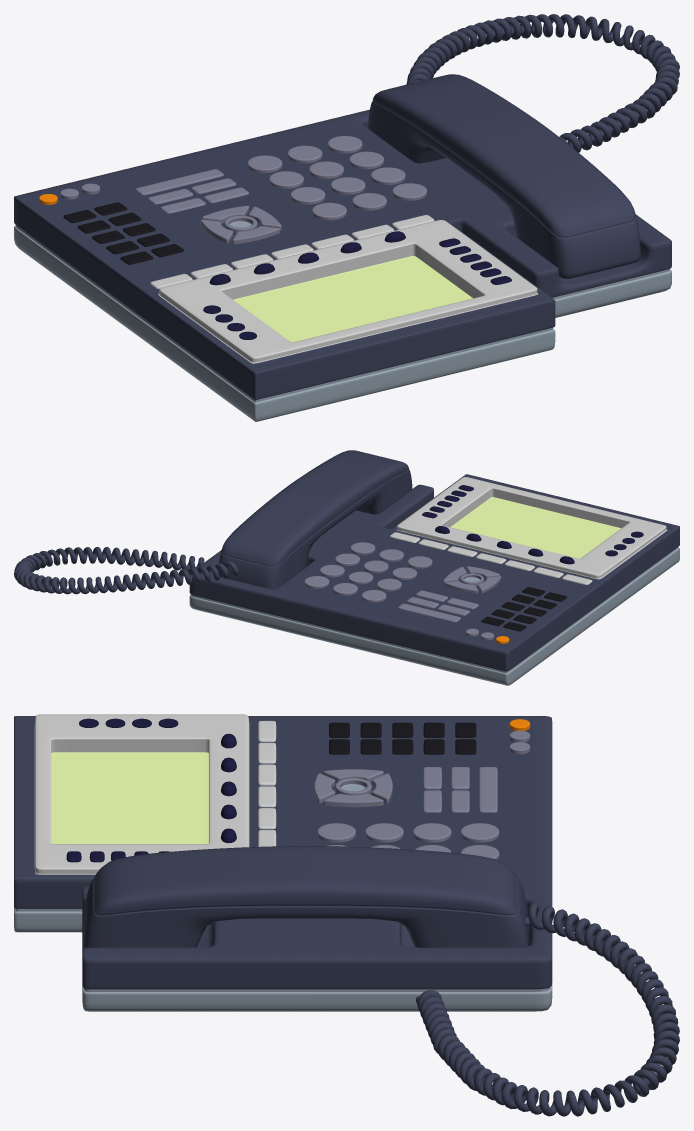
The model's file is generic_phone.glb.
3 renders of one model, top to bottom at view 1: azimuth 30°, elevation 25°; view 2: azimuth 150°, elevation 25°; view 3: azimuth 270°, elevation 25°, orthographic. The views are drawn at different scales.
Parts seen in each view (by area): view 1: Phone; view 2: Phone; view 3: Phone.
Boxes of the visible parts, x1,y1,x2,y2 form: Phone: [14, 14, 679, 421]; Phone: [14, 450, 679, 685]; Phone: [14, 714, 679, 1116].
Size of the model in its own units: 1.5 by 0.2169 by 1.16.
